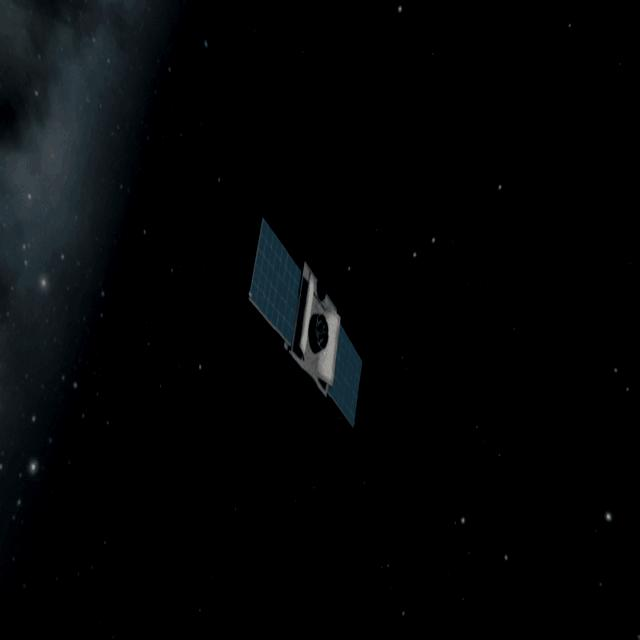medium_debris: (233, 214, 372, 453)
